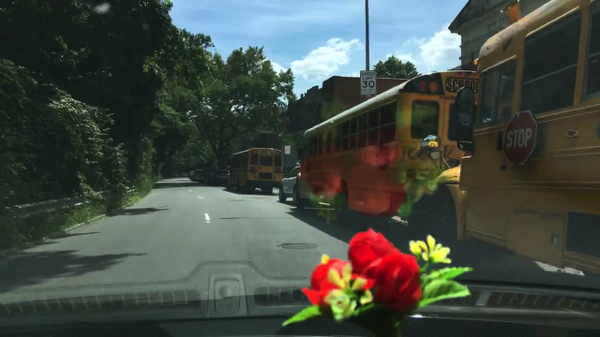bus: (433, 0, 599, 273), (292, 69, 480, 229), (228, 148, 286, 193)
car: (278, 163, 301, 206), (211, 169, 229, 185), (198, 172, 211, 185), (193, 168, 204, 182), (186, 170, 194, 181)
traffic sign: (501, 110, 537, 167), (360, 70, 377, 96), (283, 146, 290, 155)
